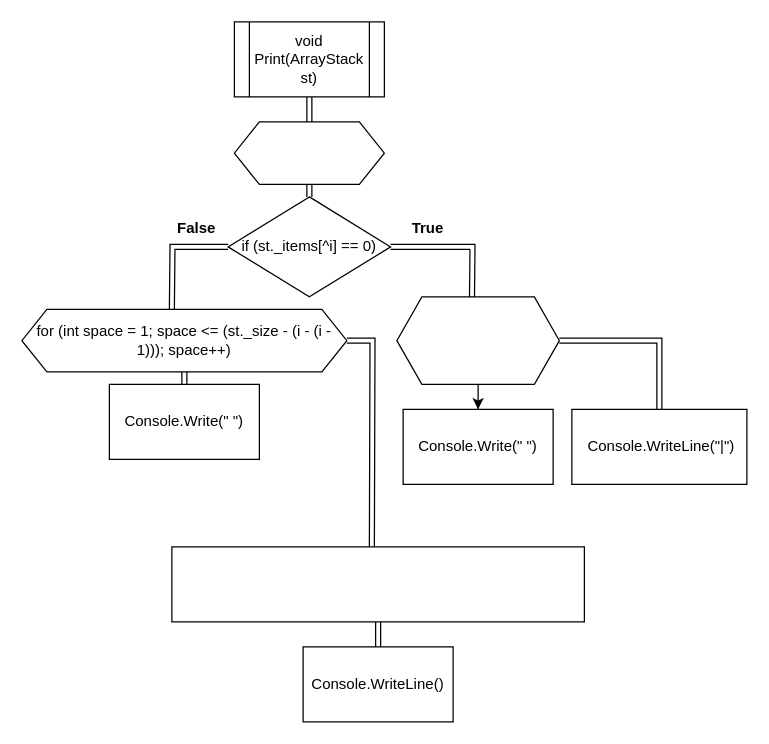
Some shapes in this 769 by 744 pixel diagram are drawn without their labels. Here are the shapes that lost their labels. From the top down, the centre of each, then its label:
(x=308, y=152): for (int i = 1; i <= st._size; i++)
(x=477, y=340): for (int space = 1; space < st._size; space++)
(x=377, y=584): Write(String.Concat(Enumerable.Repeat("*", st._items[^i])))
